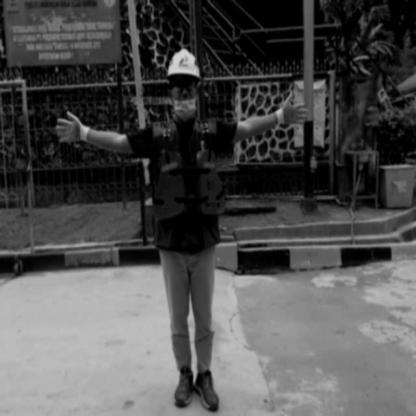boots: (196, 370, 222, 412), (172, 365, 196, 409)
gloves: (54, 110, 90, 148), (276, 90, 309, 128)
goggles: (172, 78, 198, 92)
helmet: (167, 46, 200, 76)
mask: (174, 98, 197, 122)
vest: (152, 151, 228, 216)
